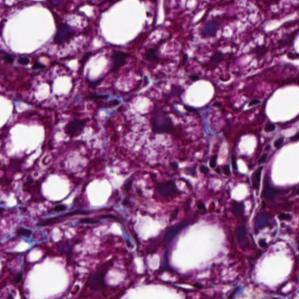inflammation: (169, 11, 245, 68), (237, 162, 285, 244), (118, 167, 191, 214)
